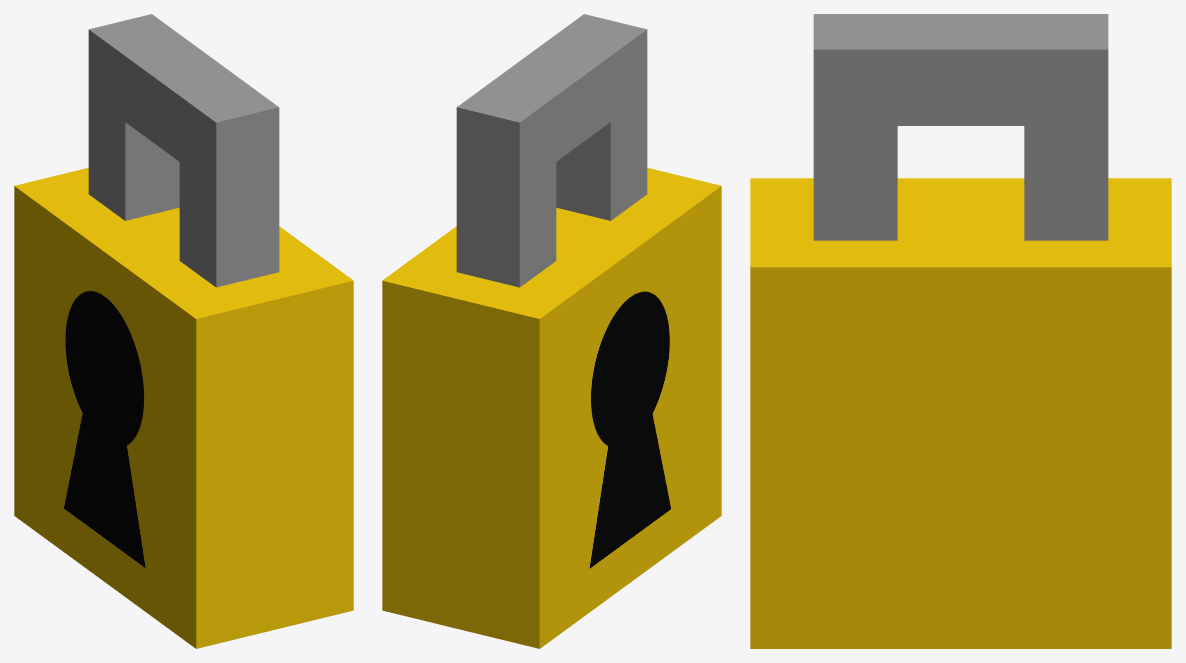
File: lock.fbx
3 views of the same model, side by side, from view 1: azimuth 30°, elevation 25°; view 2: azimuth 150°, elevation 25°; view 3: azimuth 270°, elevation 25° (orthographic). The views are drawn at different scales.
Parts seen in each view (by area): view 1: pCube21, pCube22, pCube23, pCube24; view 2: pCube21, pCube23, pCube22, pCube24; view 3: pCube21, pCube22, pCube23, pCube24.
Part boxes in pixels (left/top/right/bottom): pCube21: left=14, top=168, right=353, bottom=648; pCube22: left=179, top=80, right=279, bottom=287; pCube23: left=88, top=14, right=187, bottom=220; pCube24: left=125, top=40, right=242, bottom=161; pCube21: left=382, top=168, right=721, bottom=648; pCube23: left=456, top=80, right=556, bottom=287; pCube22: left=548, top=14, right=647, bottom=220; pCube24: left=493, top=40, right=610, bottom=161; pCube21: left=750, top=178, right=1171, bottom=648; pCube22: left=813, top=14, right=897, bottom=240; pCube23: left=1024, top=14, right=1108, bottom=240; pCube24: left=897, top=14, right=1024, bottom=125.
Size of the model in its own units: 0.5 by 1.5 by 1.
